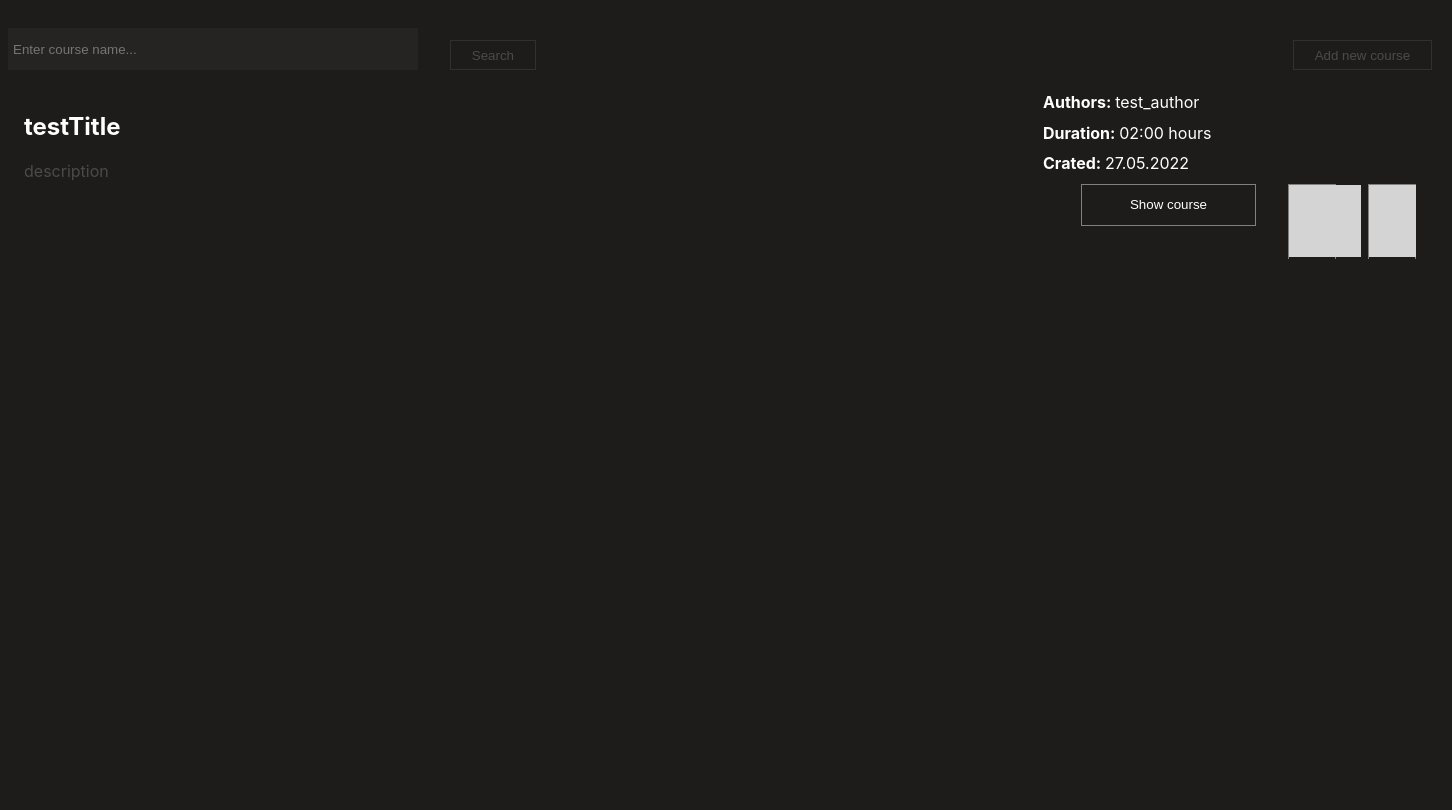
Test: Courses tests › testing "add new course" button
Click the button "Add new course": (1362, 55) [1293,40,1432,70]
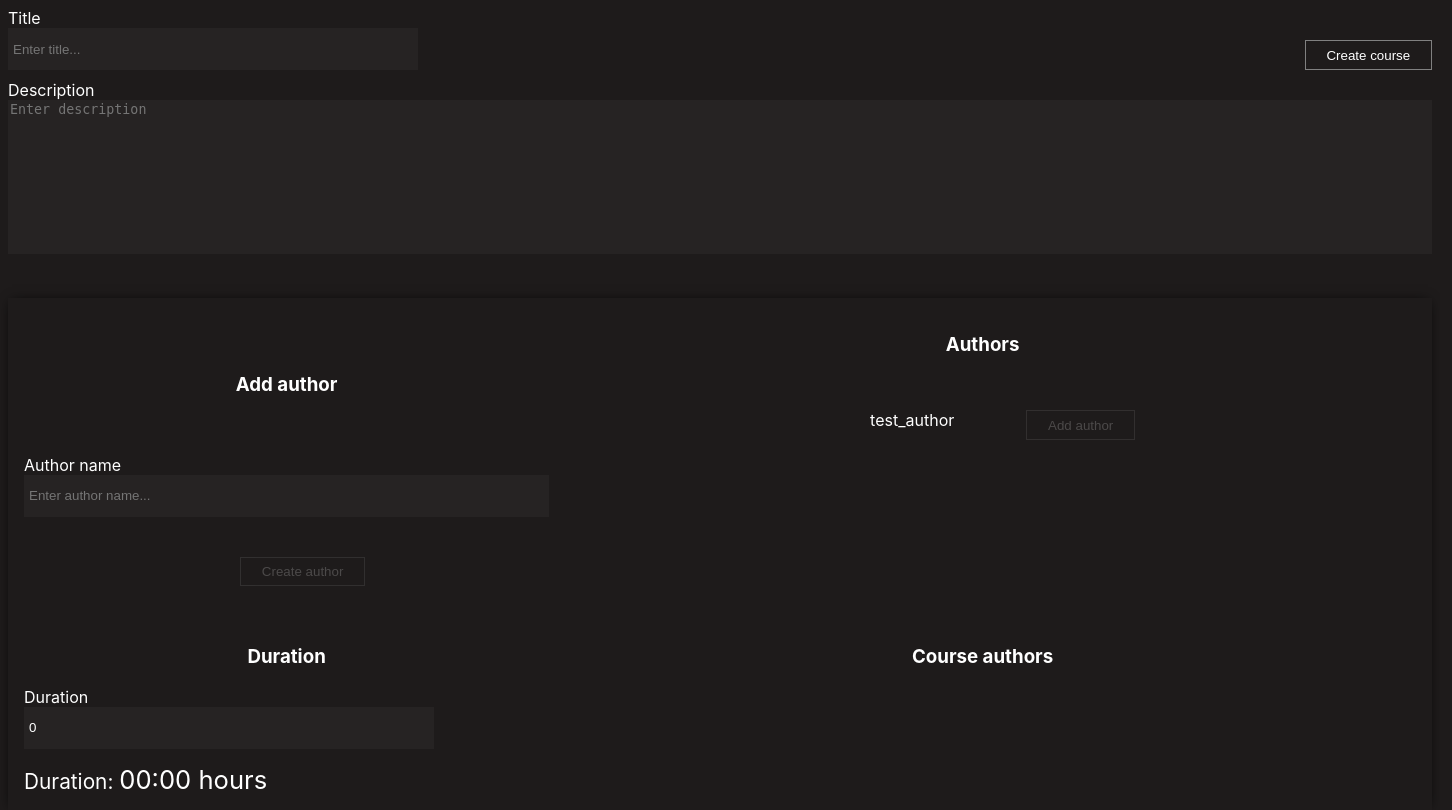
Check: the button "Create course" is shown, box [1305,40,1432,70]
